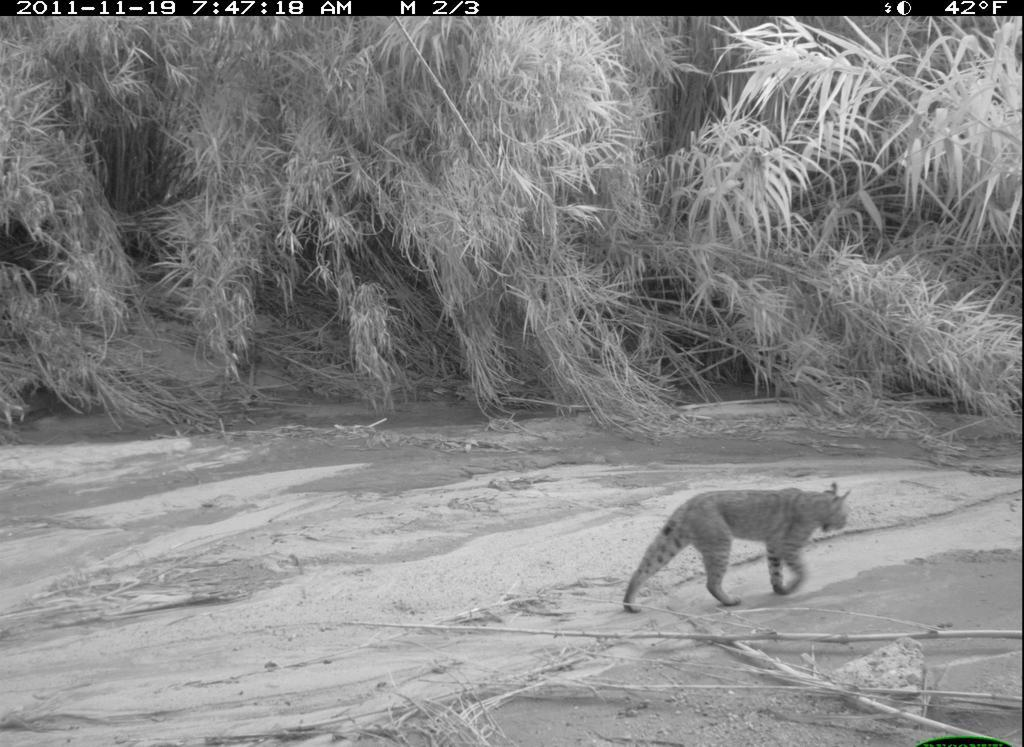bobcat: (619, 477, 859, 623)
